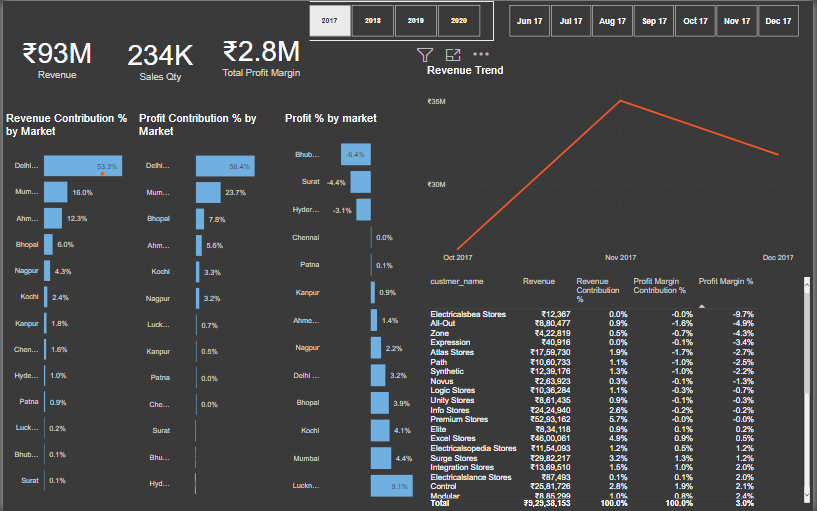

The page's visual inventory and layout, read from the dashboard file:
{"tool":"powerbi","page":{"name":"Profit Analysis","canvas":[1350,850],"ordinal":1},"visuals":[{"type":"card","fields":{"Values":["BaseMeasures (2).Revenue"]},"box":[0,0,179.6,184.8],"z":0},{"type":"card","fields":{"Values":["BaseMeasures (2).Sales Qty"]},"box":[179.6,0,164.1,193],"z":1000},{"type":"barChart","title":"Profit % by market","fields":{"Y":["BaseMeasures (2).Profit Margin %"],"Category":["sales markets.markets_name"]},"box":[464.5,184.8,230.2,664.8],"z":2000},{"type":"barChart","title":"Profit Contribution % by Market","fields":{"Y":["BaseMeasures (2).Profit Margin Contribution %"],"Category":["sales markets.markets_name"]},"box":[221.9,185.8,208.5,659.6],"z":3000},{"type":"slicer","fields":{"Values":["sales date.year"]},"box":[483.2,0,335.5,66.5],"z":4000},{"type":"slicer","fields":{"Values":["sales date.cy_date"]},"box":[818.6,0,531.7,66.5],"z":5000},{"type":"tableEx","title":"Top 5 Customers","fields":{"Values":["sales customers.custmer_name","BaseMeasures (2).Revenue","BaseMeasures (2).Revenue Contribution %","BaseMeasures (2).Profit Margin Contribution %","BaseMeasures (2).Profit Margin %"]},"box":[701.9,454.2,648.3,395.4],"z":6000},{"type":"lineChart","title":"Revenue Trend","fields":{"Y":["BaseMeasures (2).Revenue"],"Category":["sales date.cy_date"]},"box":[701.9,104.3,621.4,338.6],"z":7000},{"type":"card","fields":{"Values":["BaseMeasures (2).Total Profit Margin"]},"box":[349.9,0,161,176.5],"z":8000},{"type":"barChart","title":"Revenue Contribution % by Market","fields":{"Y":["BaseMeasures (2).Revenue Contribution %"],"Category":["sales markets.markets_name"]},"box":[0,185.8,219.9,654.5],"z":9000}]}

Visuals, with their boxes in screenshot pixels (x1, y1, x2, y2), scaled from the page's 1350x850 canvas onto the 817x511 screenshot:
card - BaseMeasures (2).Revenue: (left=0, top=0, right=109, bottom=111)
card - BaseMeasures (2).Sales Qty: (left=109, top=0, right=208, bottom=116)
"Profit % by market" barChart: (left=281, top=111, right=420, bottom=510)
"Profit Contribution % by Market" barChart: (left=134, top=112, right=260, bottom=508)
slicer - sales date.year: (left=292, top=0, right=495, bottom=40)
slicer - sales date.cy_date: (left=495, top=0, right=816, bottom=40)
"Top 5 Customers" tableEx: (left=425, top=273, right=816, bottom=510)
"Revenue Trend" lineChart: (left=425, top=63, right=801, bottom=266)
card - BaseMeasures (2).Total Profit Margin: (left=212, top=0, right=309, bottom=106)
"Revenue Contribution % by Market" barChart: (left=0, top=112, right=133, bottom=505)
